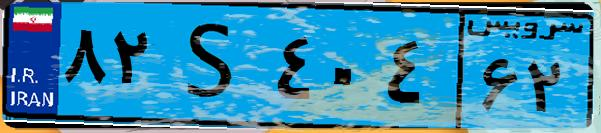0: (330, 28, 385, 110)
2: (525, 38, 570, 115), (110, 28, 158, 98)
4: (270, 28, 330, 110), (385, 28, 445, 110)
6: (475, 38, 525, 113)
8: (57, 26, 110, 100)
S: (158, 12, 270, 120)
